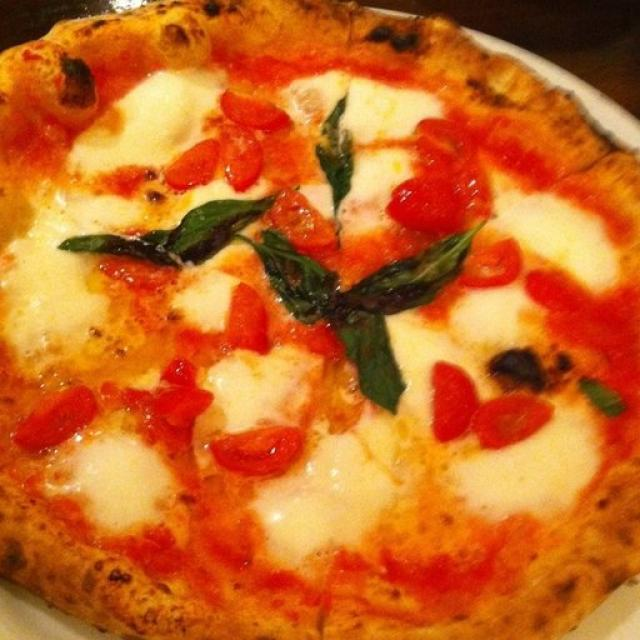Basil: (62, 185, 284, 288), (327, 219, 491, 335), (254, 223, 335, 321), (338, 311, 401, 408), (309, 96, 353, 224)
Cheese: (382, 289, 617, 526), (188, 323, 394, 570), (292, 66, 446, 232), (15, 174, 142, 364), (66, 420, 223, 568), (99, 68, 241, 221), (481, 180, 640, 300)
Pizza: (1, 0, 640, 640)
Tomato: (9, 382, 94, 462), (126, 375, 210, 446), (471, 401, 561, 448), (432, 357, 486, 431), (461, 234, 526, 291), (209, 134, 269, 195), (577, 369, 637, 429), (219, 431, 308, 470), (227, 288, 278, 346), (212, 90, 290, 126), (164, 140, 216, 184), (302, 313, 346, 352), (111, 166, 151, 196)
